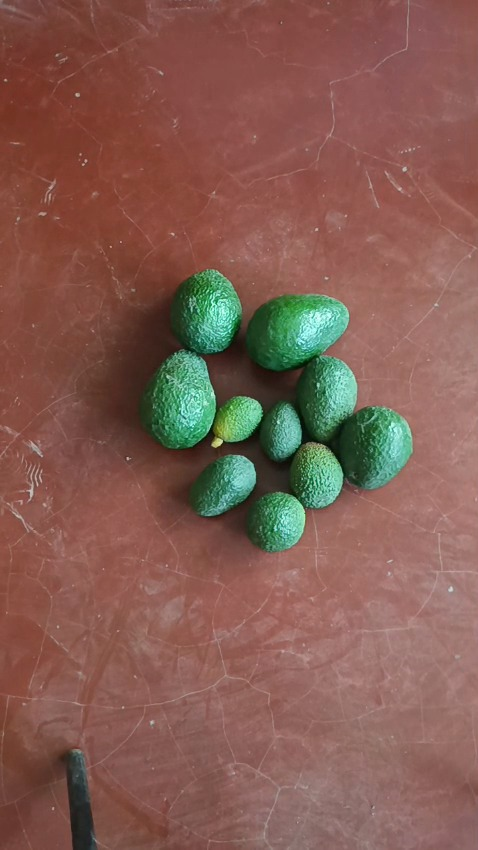Primera: (246, 295, 349, 372), (138, 349, 216, 449), (171, 269, 243, 353)
Segunda: (335, 406, 413, 489), (296, 356, 358, 441)
Tercera: (189, 454, 257, 517), (288, 441, 342, 508), (245, 491, 305, 551), (257, 400, 301, 462), (214, 396, 262, 442)
